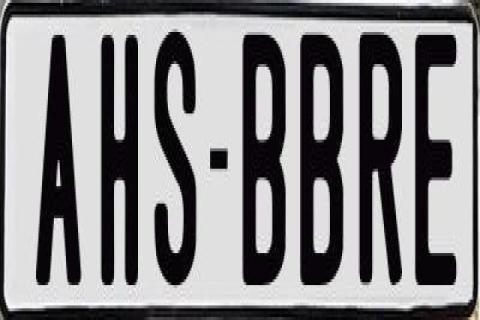A: (32, 32, 84, 296)
B: (298, 35, 346, 297), (240, 29, 288, 285)
E: (416, 29, 456, 288)
H: (100, 32, 142, 300)
R: (356, 23, 404, 291)
S: (154, 23, 202, 291)
